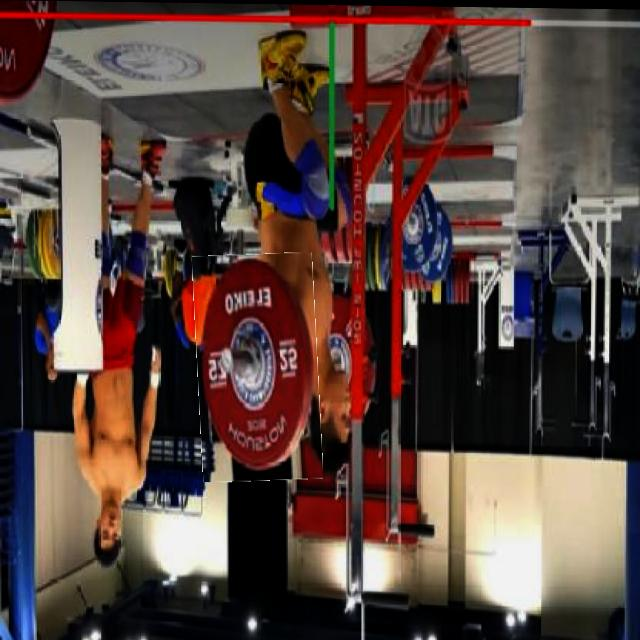barbell: (196, 252, 321, 482)
